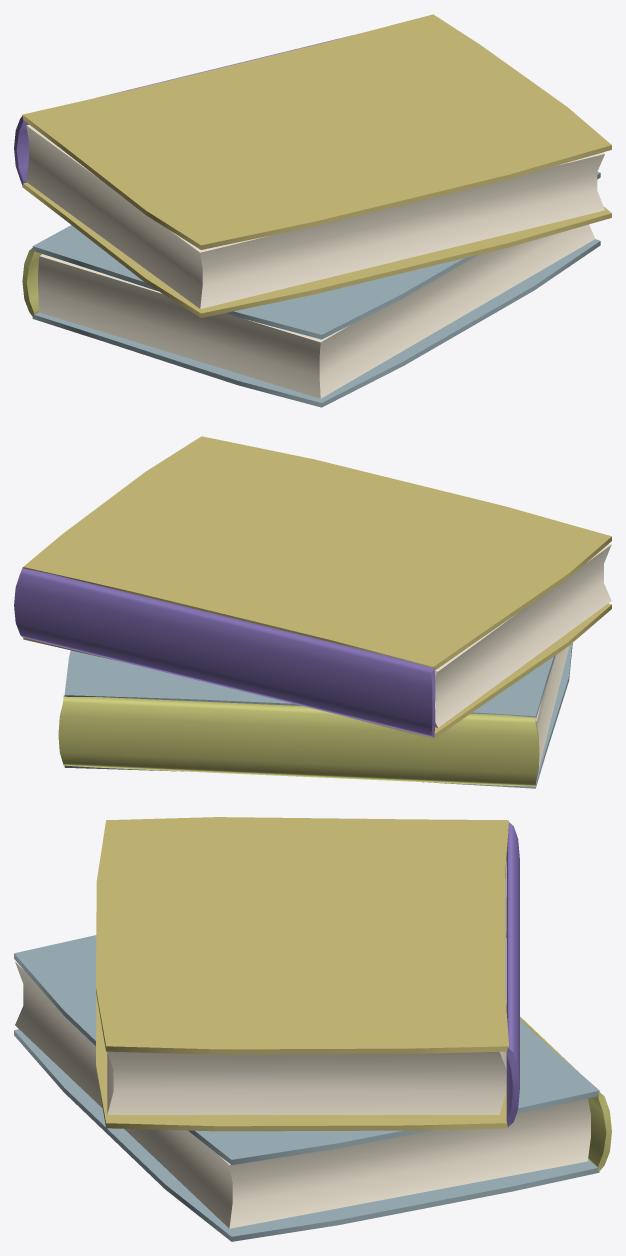
3 views of the same model, one above another, from view 1: azimuth 30°, elevation 25°; view 2: azimuth 150°, elevation 25°; view 3: azimuth 270°, elevation 25° (orthographic). The views are drawn at different scales.
Visible parts, largest first — view 1: node_GameObject_-66634, node_7_-65384, node_1_-65372, node_6_-65382, node_5_-65380; view 2: node_GameObject_-66634, node_5_-65380, node_1_-65372, node_7_-65384, node_6_-65382; view 3: node_GameObject_-66634, node_7_-65384, node_1_-65372, node_6_-65382, node_5_-65380.
Boxes of the visible parts, x1,y1,x2,y2 form: node_GameObject_-66634: (14,14,611,317); node_7_-65384: (38,224,595,398); node_1_-65372: (32,171,600,339); node_6_-65382: (32,239,600,407); node_5_-65380: (22,247,42,317); node_GameObject_-66634: (14,436,611,739); node_5_-65380: (58,695,539,786); node_1_-65372: (64,650,555,719); node_7_-65384: (536,645,569,767); node_6_-65382: (64,643,572,788); node_GameObject_-66634: (96,817,519,1131); node_7_-65384: (15,961,590,1228); node_1_-65372: (14,935,599,1164); node_6_-65382: (14,1029,599,1241); node_5_-65380: (506,1003,611,1171).
Size of the model in its own units: 0.3475 by 0.0993 by 0.3141.
